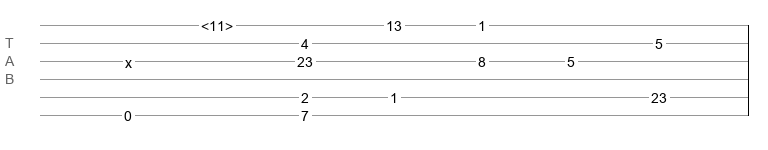0: (124, 108, 132, 118)
1: (390, 90, 398, 100), (478, 18, 486, 28)
13: (386, 18, 402, 28)
2: (301, 90, 309, 100)
23: (297, 54, 313, 64), (651, 90, 667, 100)
4: (301, 36, 309, 46)
5: (567, 54, 575, 64), (655, 36, 663, 46)
7: (301, 108, 309, 118)
8: (478, 54, 486, 64)
harmonic: (201, 18, 233, 28)
x: (125, 55, 132, 63)
